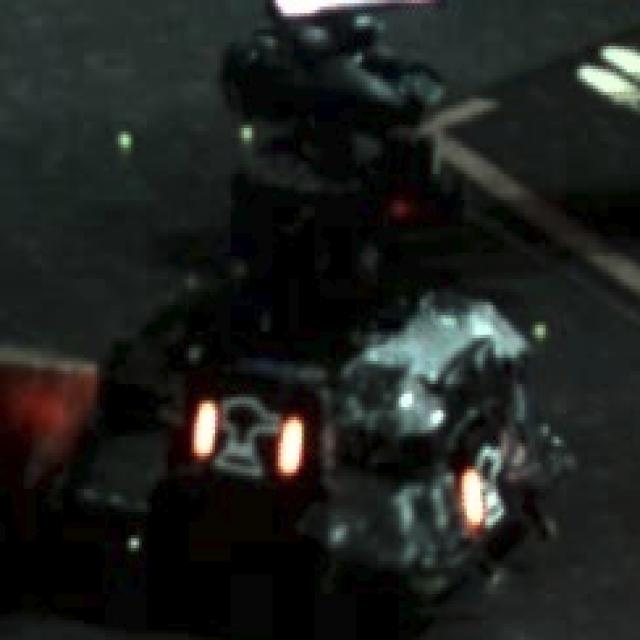Rs: (192, 390, 304, 476)
